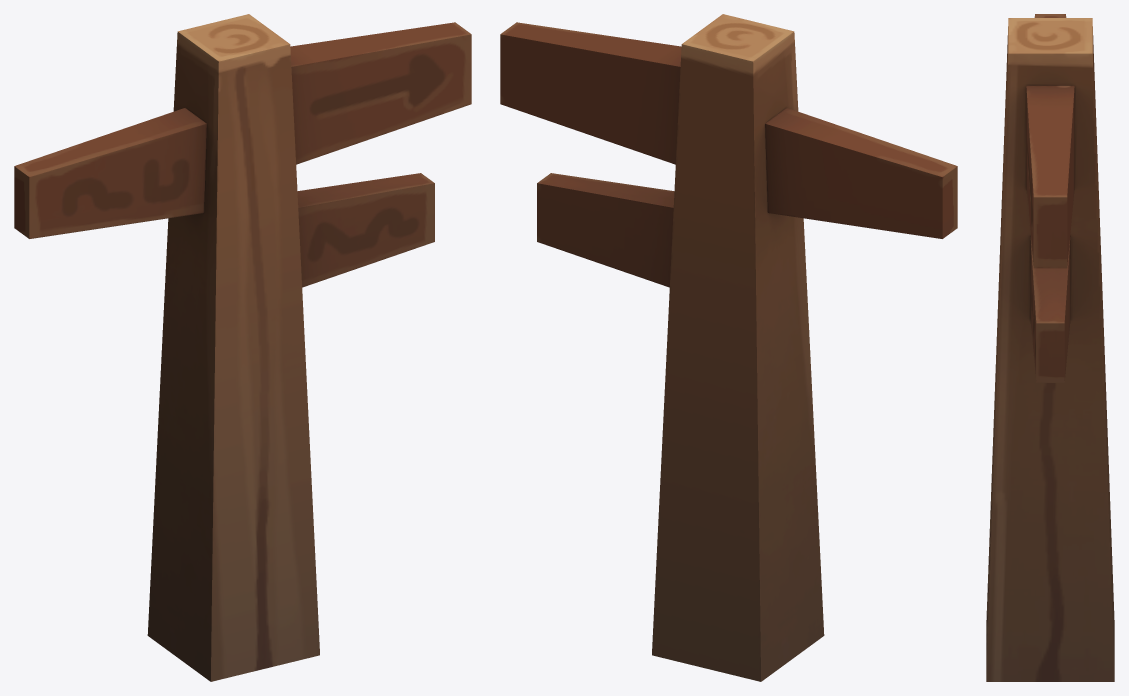
File: forest_sign.fbx
The picture shows the model from 3 angles, left to right: view 1: azimuth 30°, elevation 25°; view 2: azimuth 150°, elevation 25°; view 3: azimuth 270°, elevation 25°; orthographic projection.
Visible parts, largest first — view 1: forest_sign; view 2: forest_sign; view 3: forest_sign.
Boxes of the visible parts, left/top/right/bottom form: forest_sign: left=14, top=14, right=471, bottom=681; forest_sign: left=500, top=14, right=957, bottom=681; forest_sign: left=986, top=14, right=1114, bottom=681.
Bounding box in the file's own units: 2.51 × 3.3 × 0.6215.
